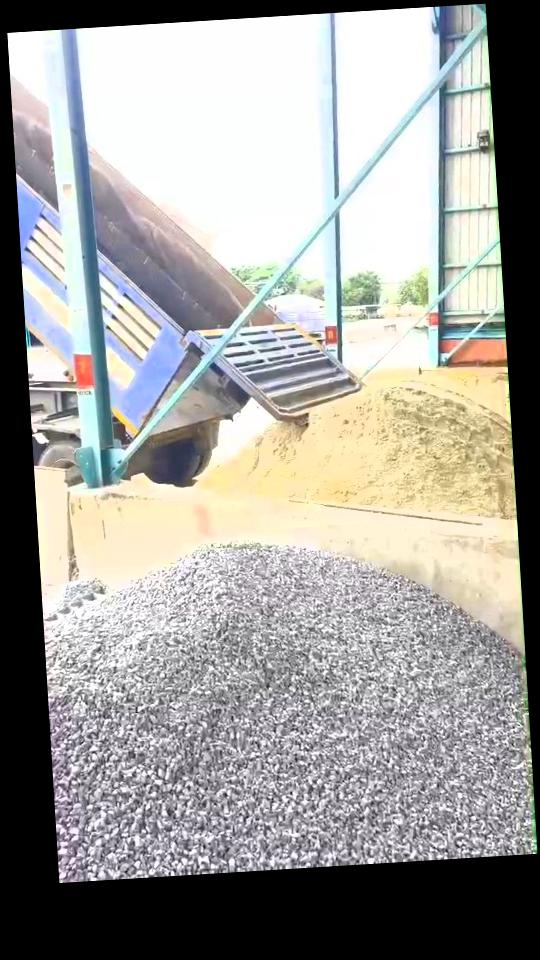gravel: (44, 545, 532, 881), (43, 578, 105, 620)
sand: (199, 382, 514, 518), (426, 376, 510, 420)
